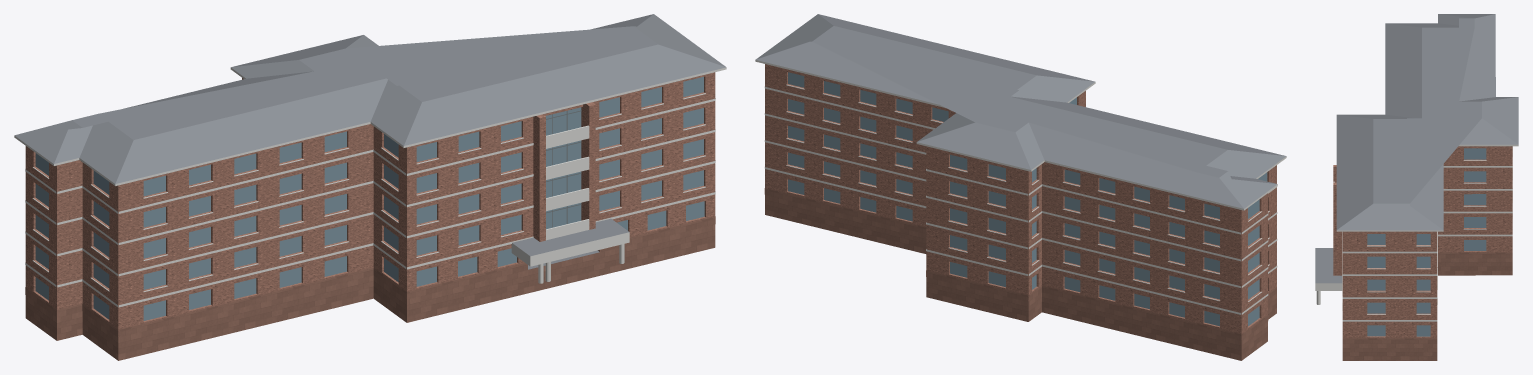
3 renders of one model, left to right at view 1: azimuth 30°, elevation 25°; view 2: azimuth 150°, elevation 25°; view 3: azimuth 270°, elevation 25°, orthographic. The views are drawn at different scales.
Parts seen in each view (by area): view 1: sarangGwanN14__wall, sarangGwanN14__roof, sarangGwanN14__glass, sarangGwanN14__base, sarangGwanN14__trim; view 2: sarangGwanN14__wall, sarangGwanN14__roof, sarangGwanN14__base, sarangGwanN14__glass, sarangGwanN14__trim; view 3: sarangGwanN14__roof, sarangGwanN14__wall, sarangGwanN14__base, sarangGwanN14__glass, sarangGwanN14__trim.
Part boxes in pixels (bbox=[...]): sarangGwanN14__wall: bbox=[25, 72, 715, 337]; sarangGwanN14__roof: bbox=[14, 14, 725, 269]; sarangGwanN14__glass: bbox=[35, 76, 704, 320]; sarangGwanN14__base: bbox=[25, 216, 715, 360]; sarangGwanN14__trim: bbox=[14, 67, 726, 307]; sarangGwanN14__wall: bbox=[765, 64, 1276, 340]; sarangGwanN14__roof: bbox=[755, 14, 1286, 208]; sarangGwanN14__base: bbox=[764, 188, 1276, 360]; sarangGwanN14__glass: bbox=[788, 72, 1267, 326]; sarangGwanN14__trim: bbox=[755, 60, 1286, 314]; sarangGwanN14__roof: bbox=[1315, 14, 1518, 283]; sarangGwanN14__wall: bbox=[1333, 146, 1512, 338]; sarangGwanN14__base: bbox=[1342, 252, 1512, 360]; sarangGwanN14__glass: bbox=[1367, 148, 1486, 336]; sarangGwanN14__trim: bbox=[1315, 144, 1518, 321].
Bounding box in the file's own units: 66.95 × 20.84 × 26.62.
8 materials, 2 textured.
